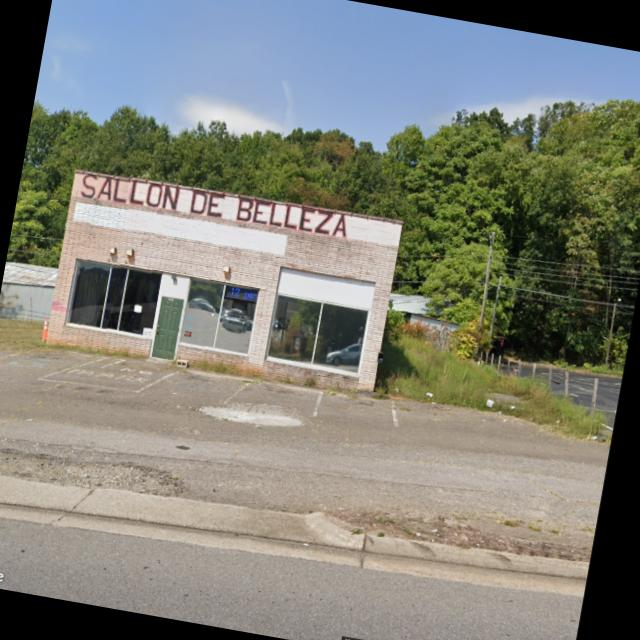House: (45, 162, 402, 399)
